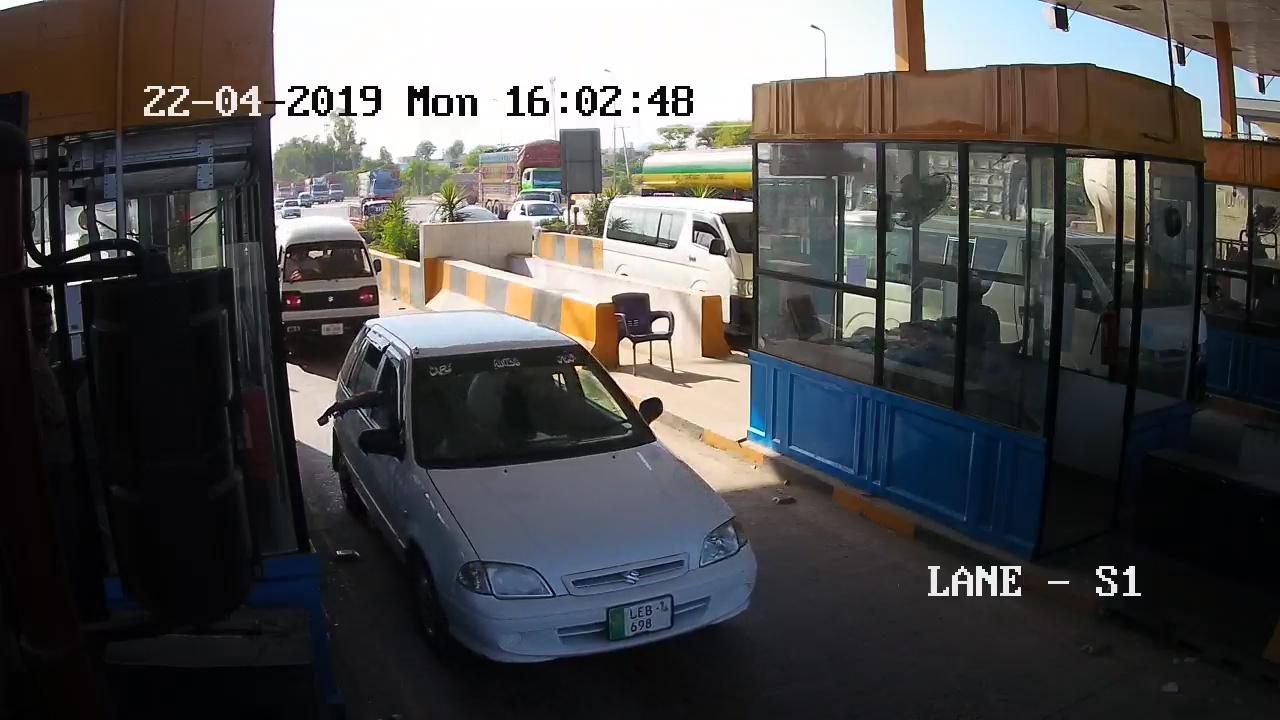car: (347, 348, 771, 659), (269, 220, 393, 333)
